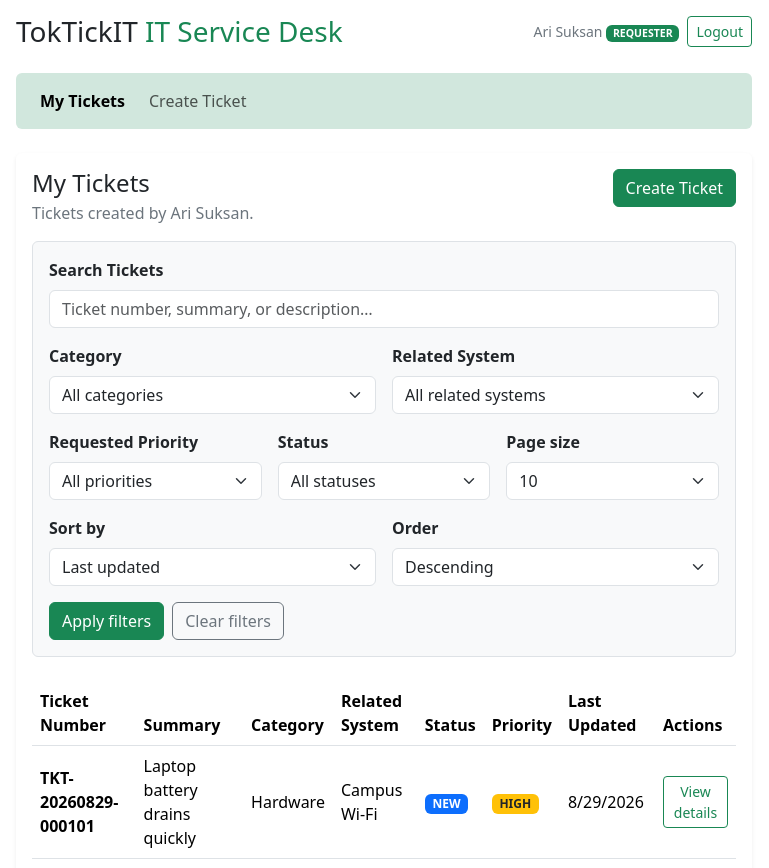
Test: My Tickets UI › refreshes the list when returning from Create Ticket
The width and height of the screenshot is (769, 868).
Expected: the heading "My Tickets" is shown, [32, 166, 150, 199]
Click the button "Create Ticket": click(674, 188) [613, 169, 736, 207]
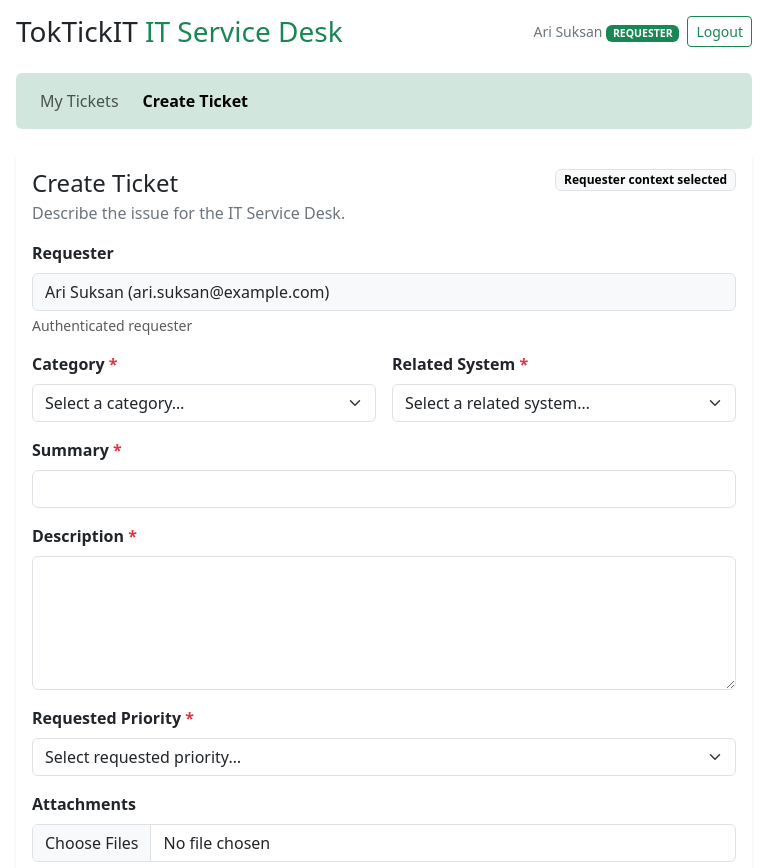
Expected: the heading "Create Ticket" is shown, [32, 166, 178, 199]
Click the link "My Tickets": click(79, 101) [40, 90, 118, 112]
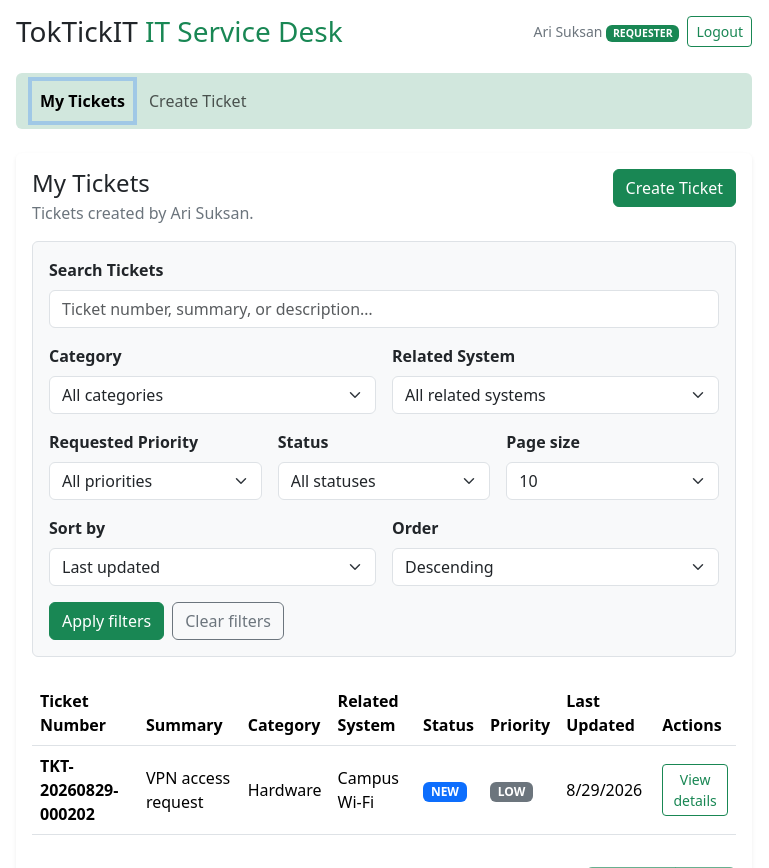
Expected: the text "VPN access request" is shown, [138, 746, 240, 835]
